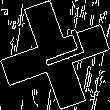L_W: (26, 32, 84, 78)
